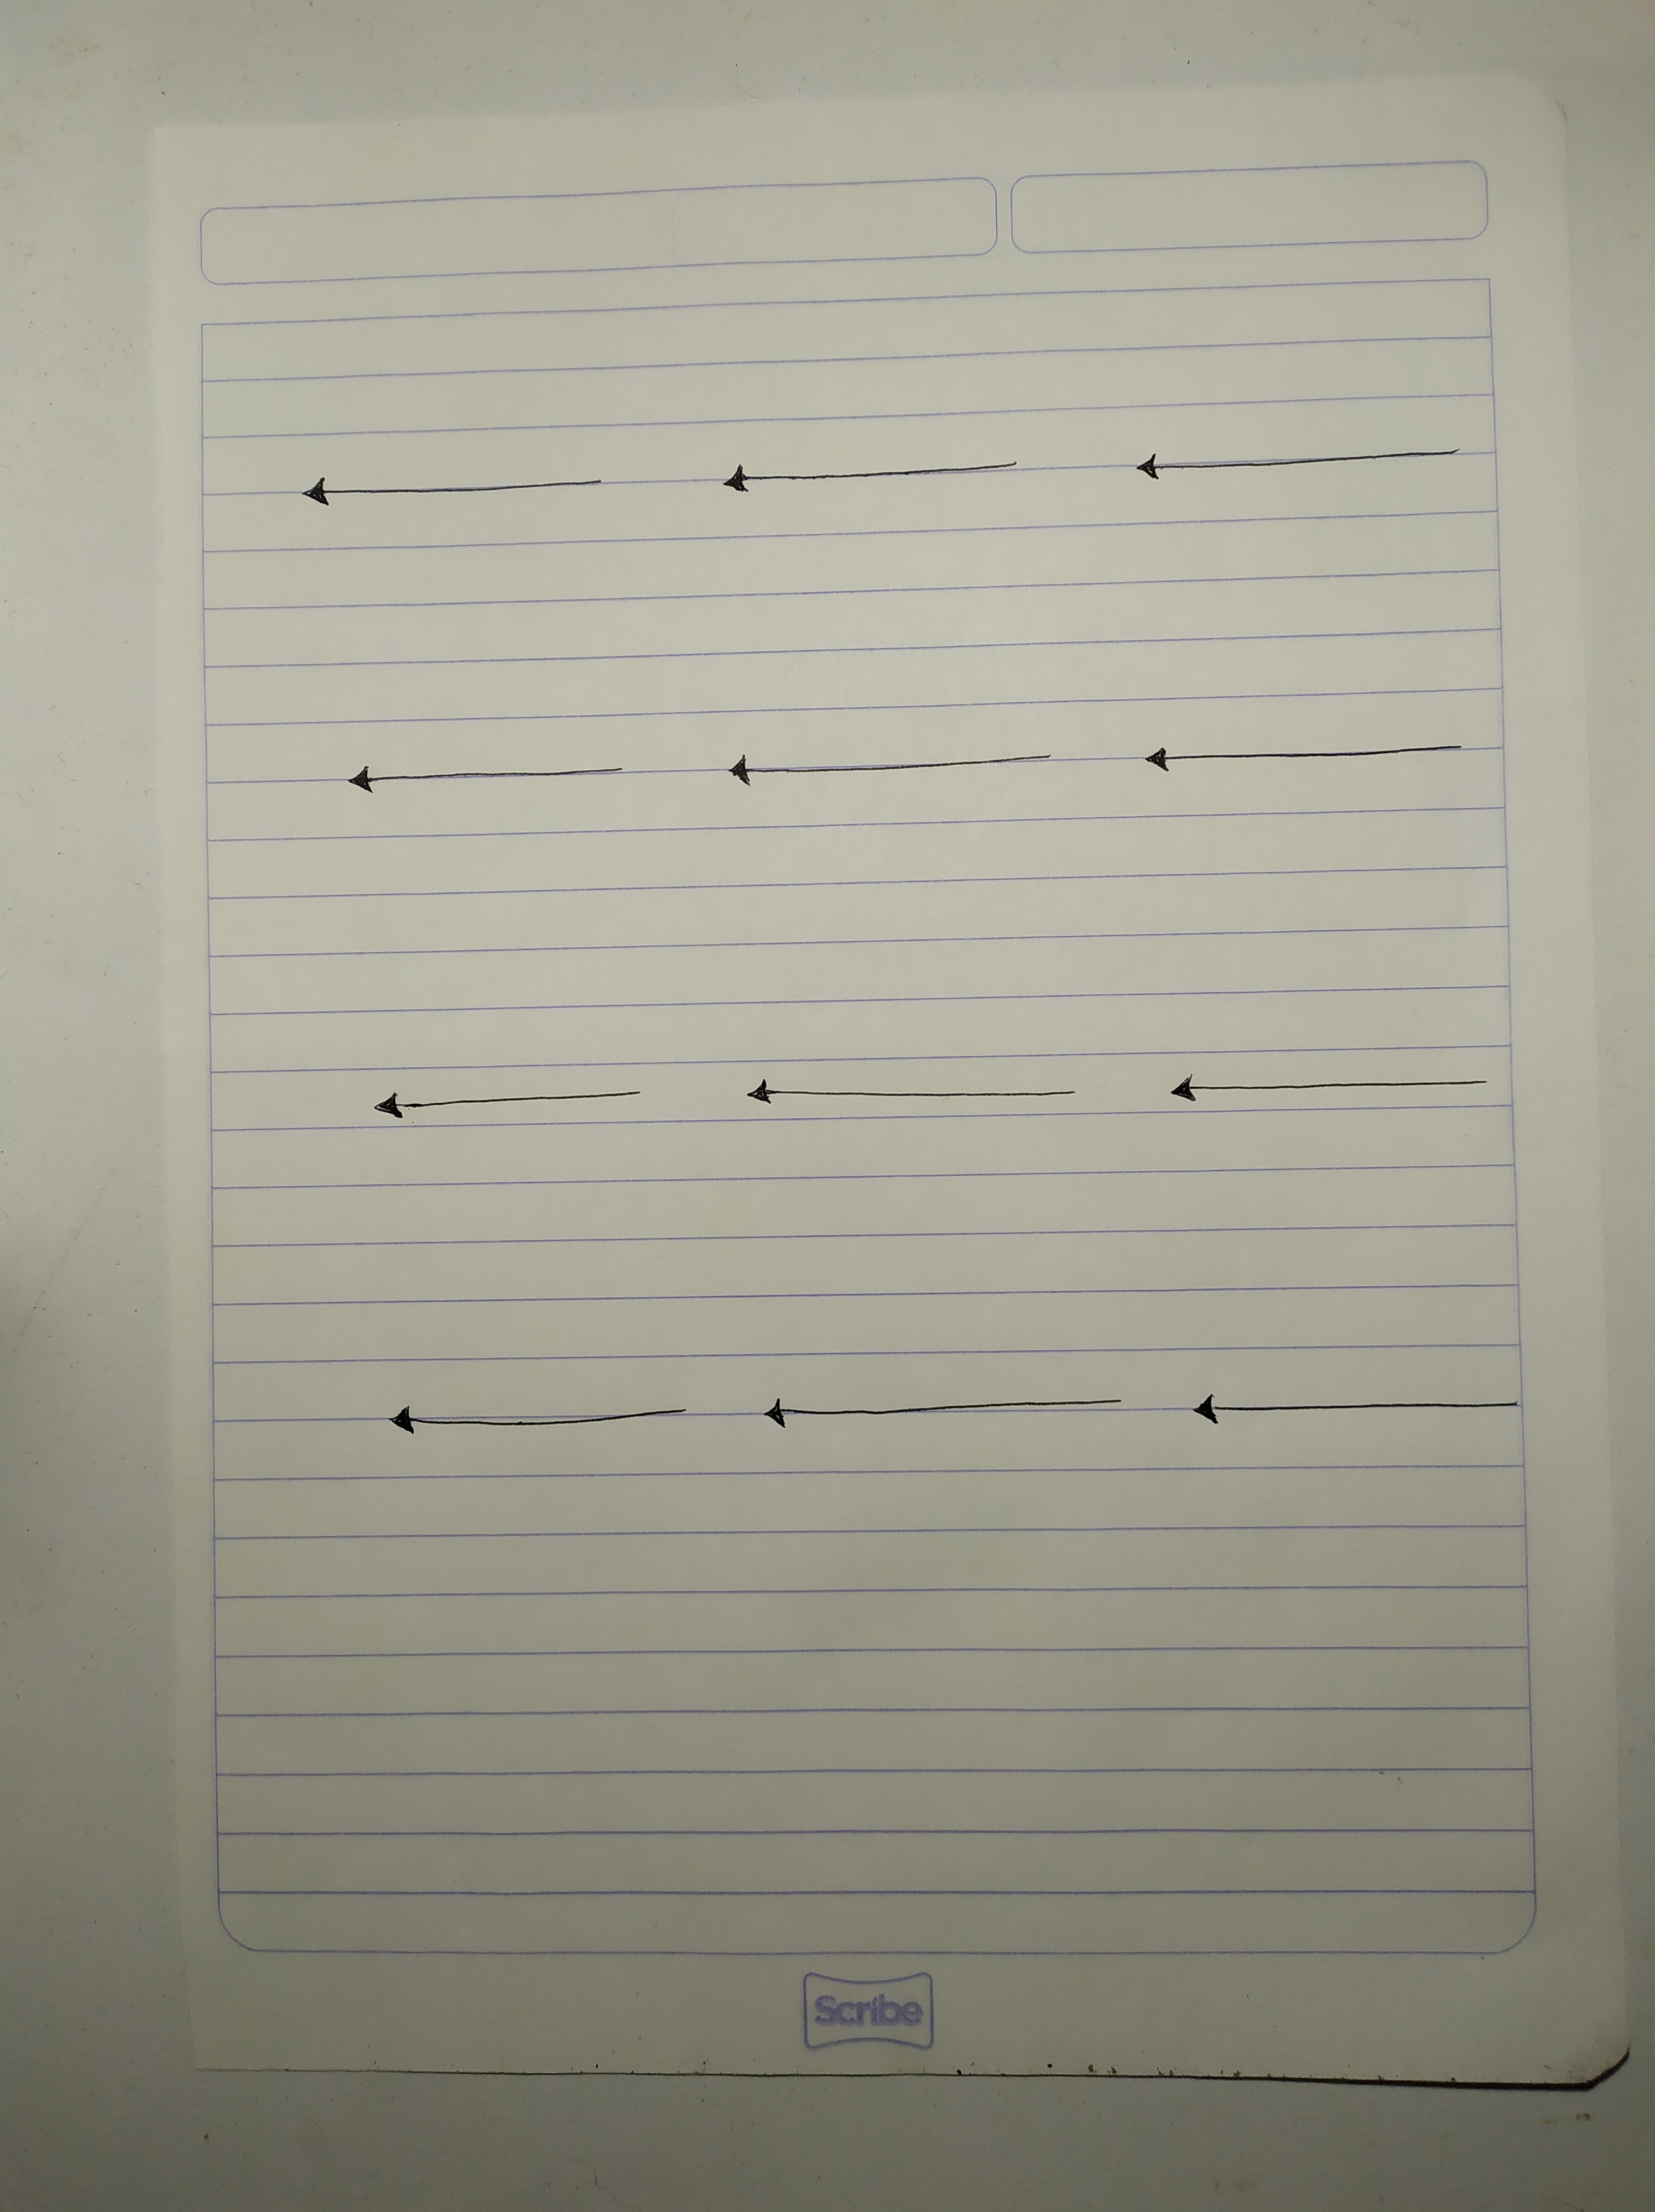arrow_line_left: (675, 440, 1043, 530), (694, 735, 1081, 813), (709, 1055, 1090, 1133), (355, 1385, 723, 1463), (1166, 1378, 1540, 1454), (276, 457, 622, 537), (1109, 426, 1492, 493), (749, 1387, 1147, 1449), (1120, 733, 1495, 798), (1139, 1056, 1512, 1119), (320, 751, 643, 818), (355, 1069, 652, 1133)
